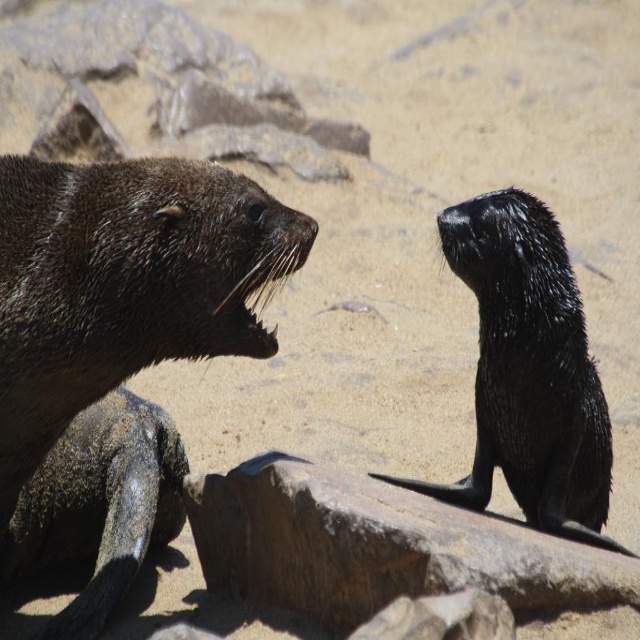Otter: (0, 152, 316, 531), (369, 181, 639, 560)
